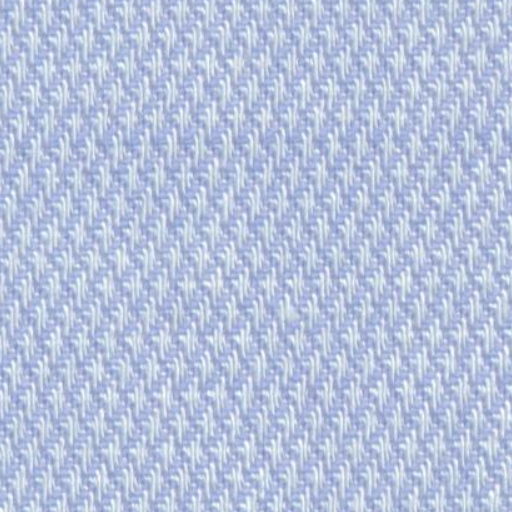TuoSha: (10, 108, 491, 176)
